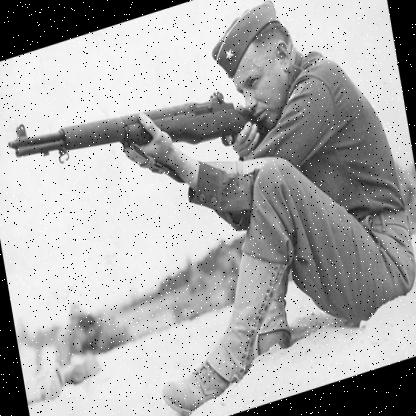rifle: (3, 45, 269, 227)
